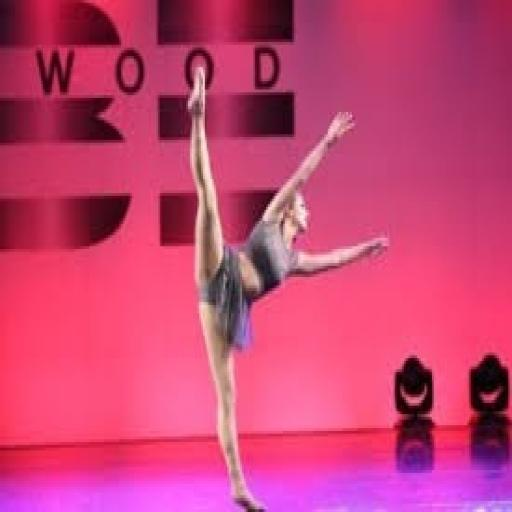dancing: (182, 64, 391, 510)
